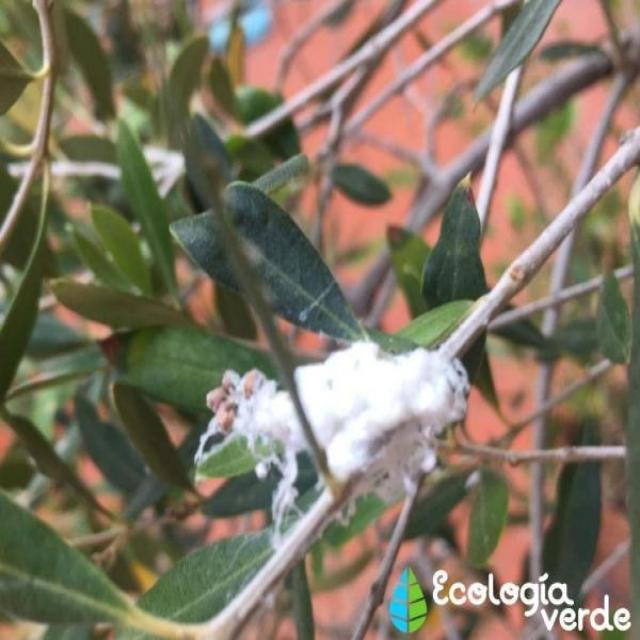Psyllid: (296, 342, 470, 488), (196, 368, 310, 546)
